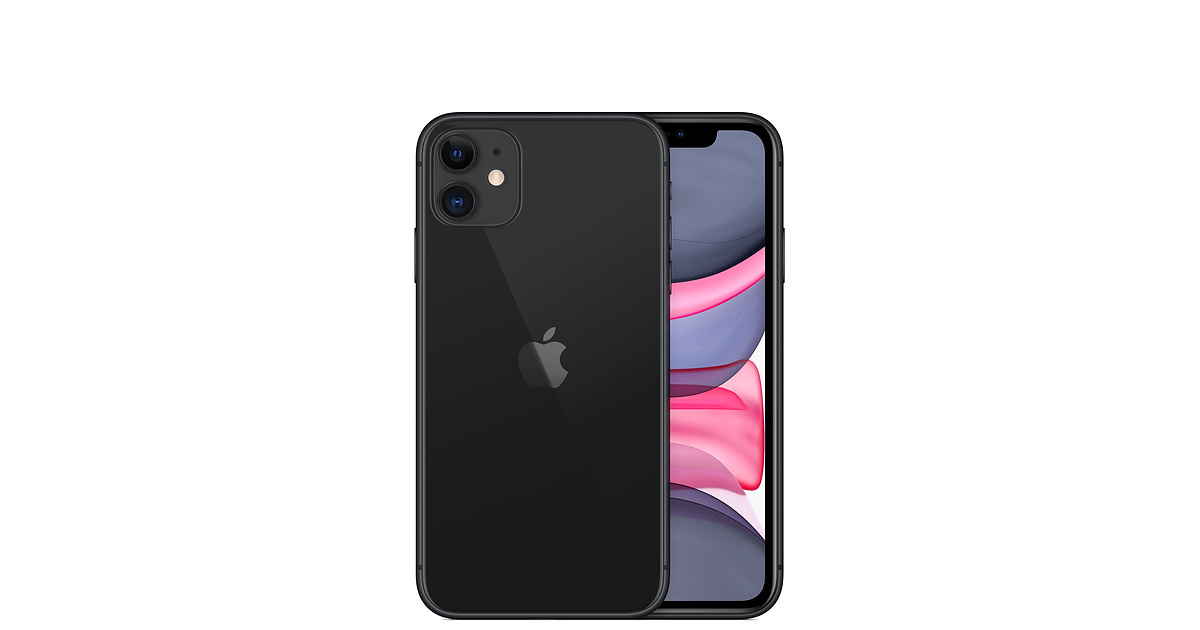Phone: (412, 108, 674, 624), (597, 110, 790, 623)
